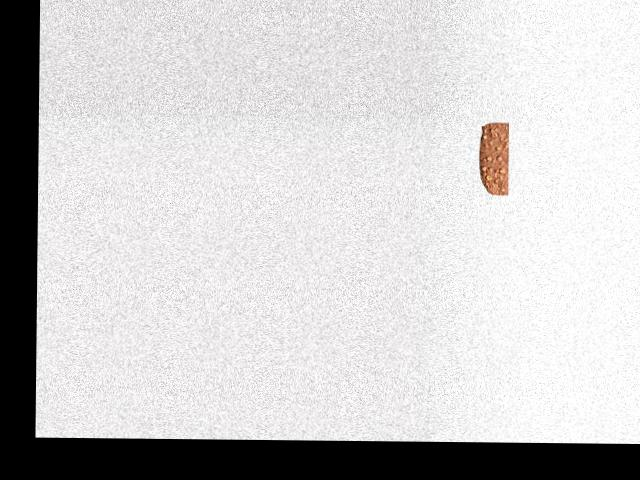chocolate: (473, 122, 512, 195)
